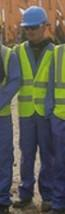hat: (20, 4, 58, 46)
vest: (9, 40, 55, 124), (49, 44, 65, 122), (1, 36, 15, 125)
